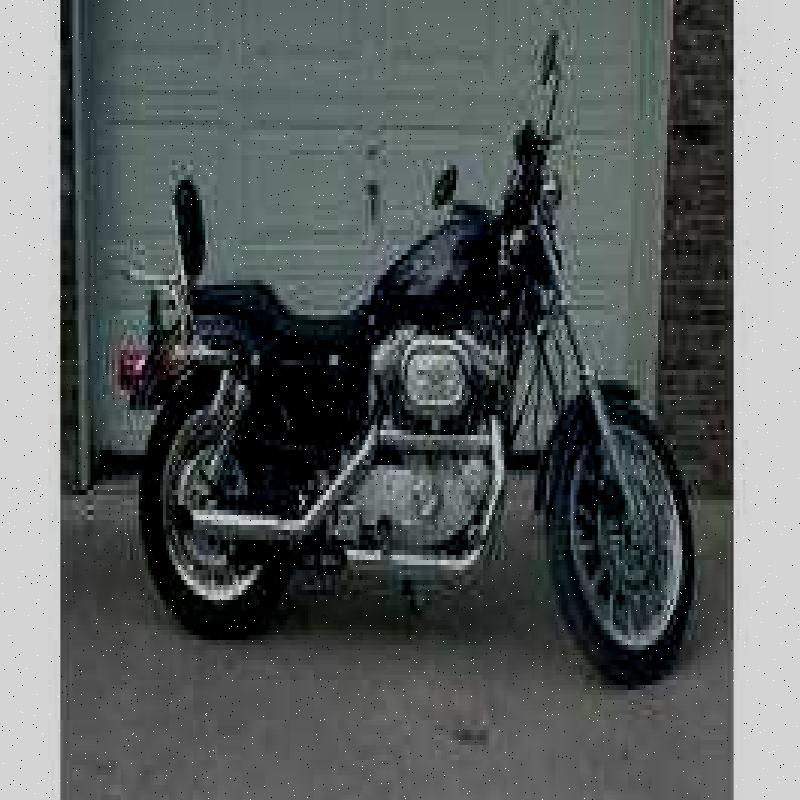bike: (100, 12, 699, 682)
